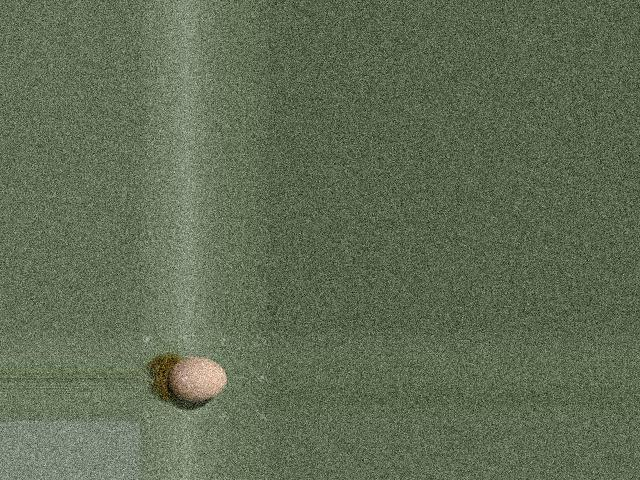egg: (169, 357, 227, 401)
